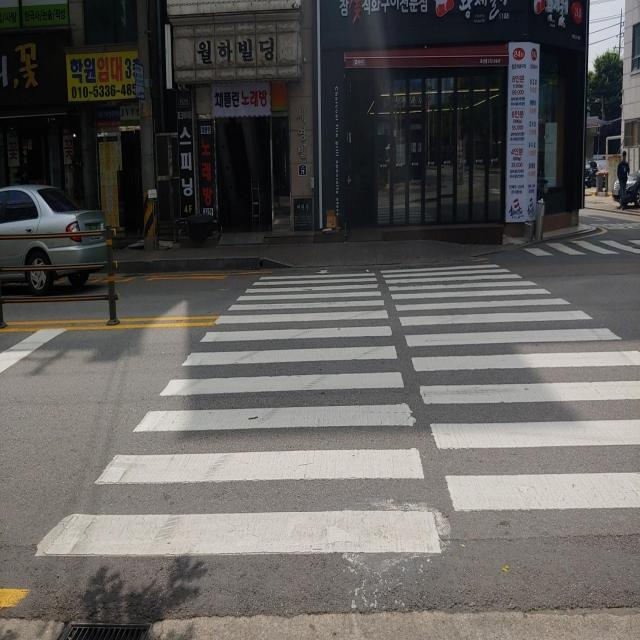횡단보도: (32, 262, 640, 560), (524, 233, 639, 258)
